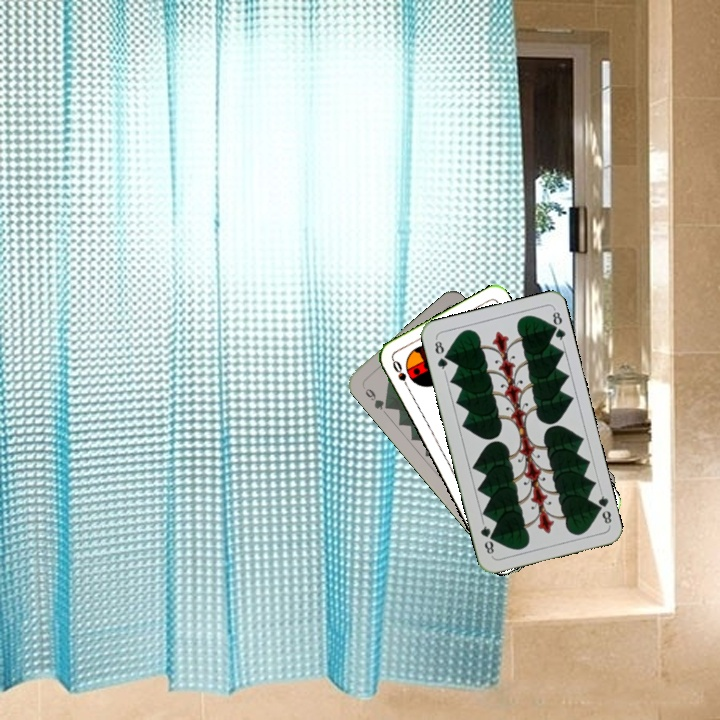G8: (591, 488, 614, 526), (431, 335, 451, 375)
G9: (358, 381, 392, 413)
SO: (388, 356, 413, 394)
